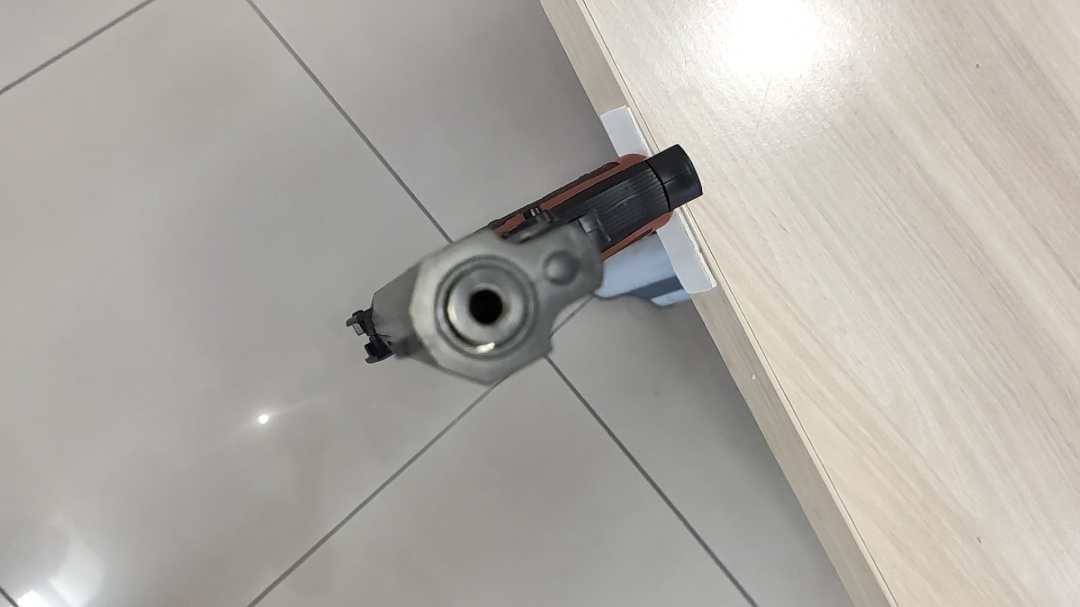gun: (348, 145, 699, 390)
